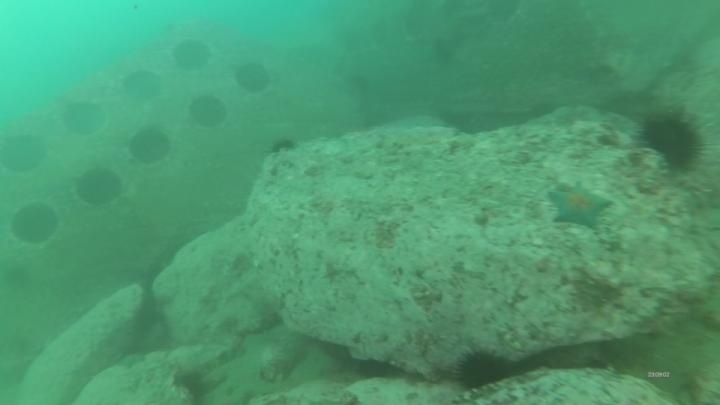echinus: (636, 108, 708, 174), (453, 347, 510, 391), (171, 367, 213, 402), (267, 135, 299, 158)
starfish: (546, 180, 614, 230)
